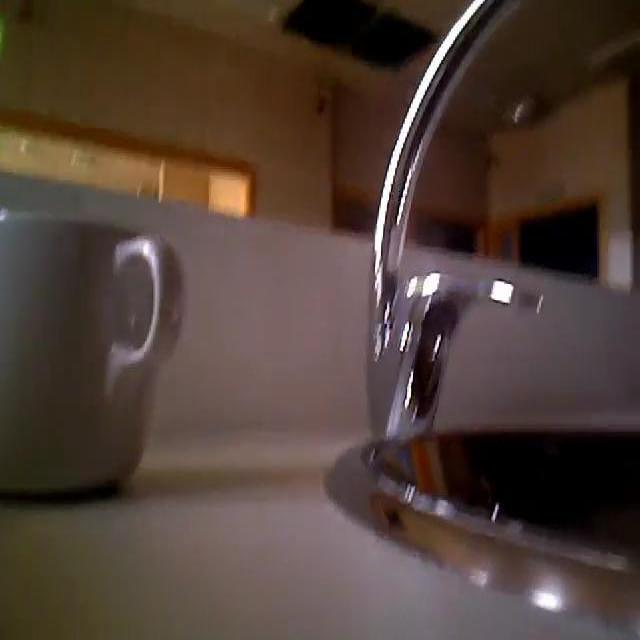cup: (0, 183, 169, 500)
